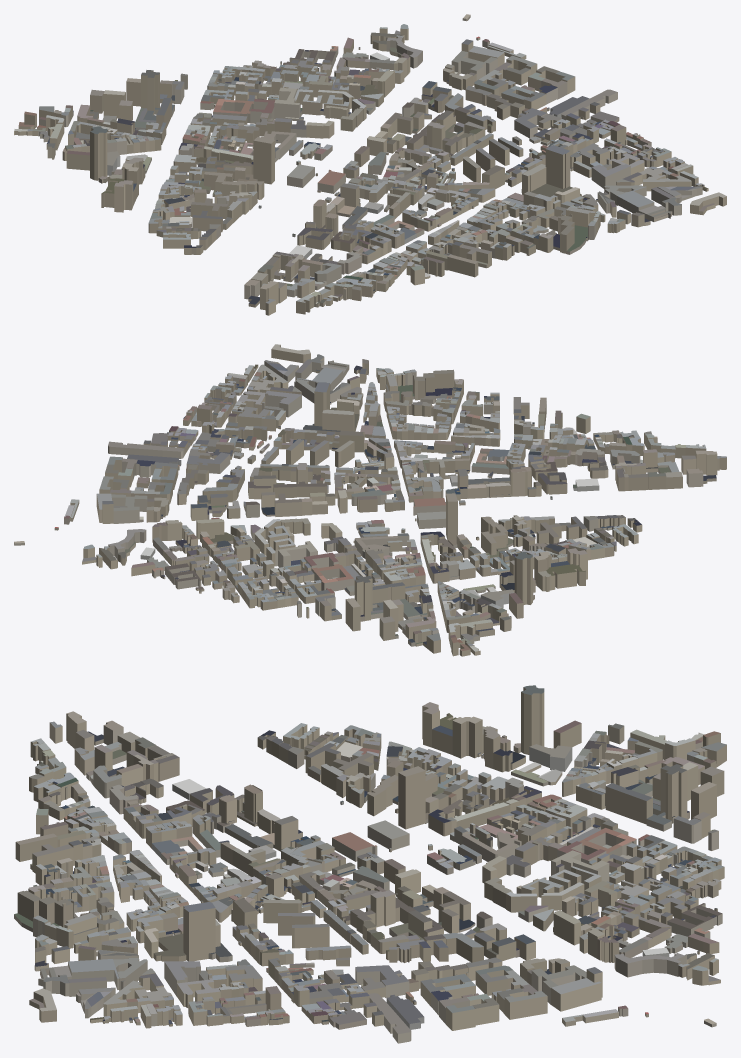
3 views of the same model, one above another, from view 1: azimuth 30°, elevation 25°; view 2: azimuth 150°, elevation 25°; view 3: azimuth 270°, elevation 25° (orthographic). The views are drawn at different scales.
Parts seen in each view (by area): view 1: tuile; view 2: tuile; view 3: tuile.
Part boxes in pixels (bbox=[...]): tuile: bbox=[14, 14, 726, 315]; tuile: bbox=[14, 344, 726, 656]; tuile: bbox=[14, 685, 726, 1043].
Size of the model in its own units: 1092 by 101 by 1048.
